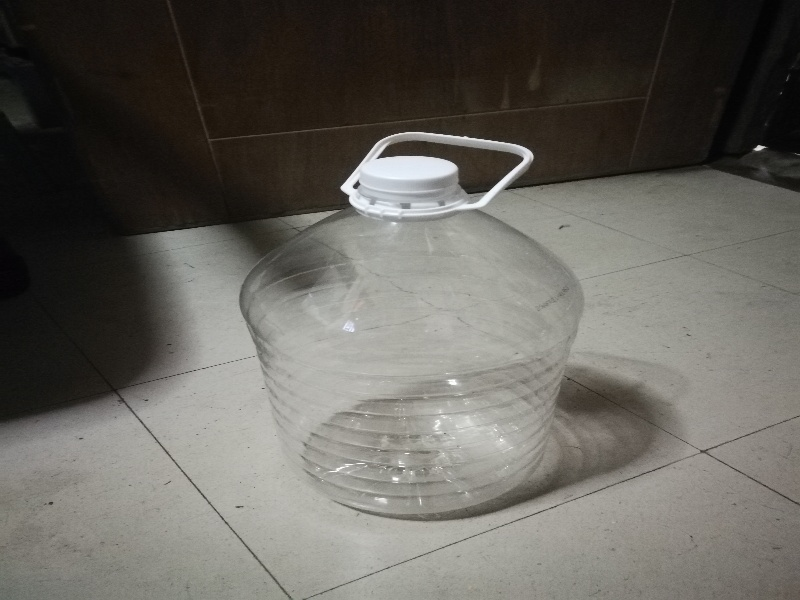PET #1: (242, 128, 590, 520)
